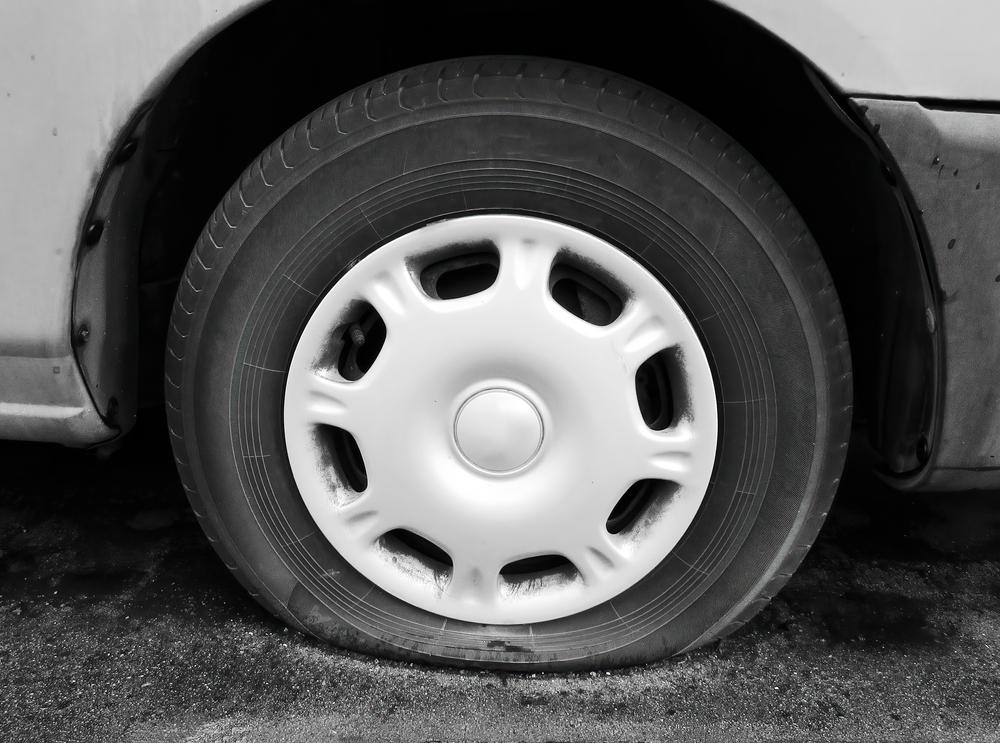tire flat: (165, 55, 855, 674)
